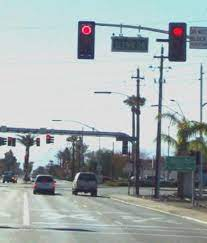traffic light: (168, 21, 186, 61), (79, 21, 94, 60)
